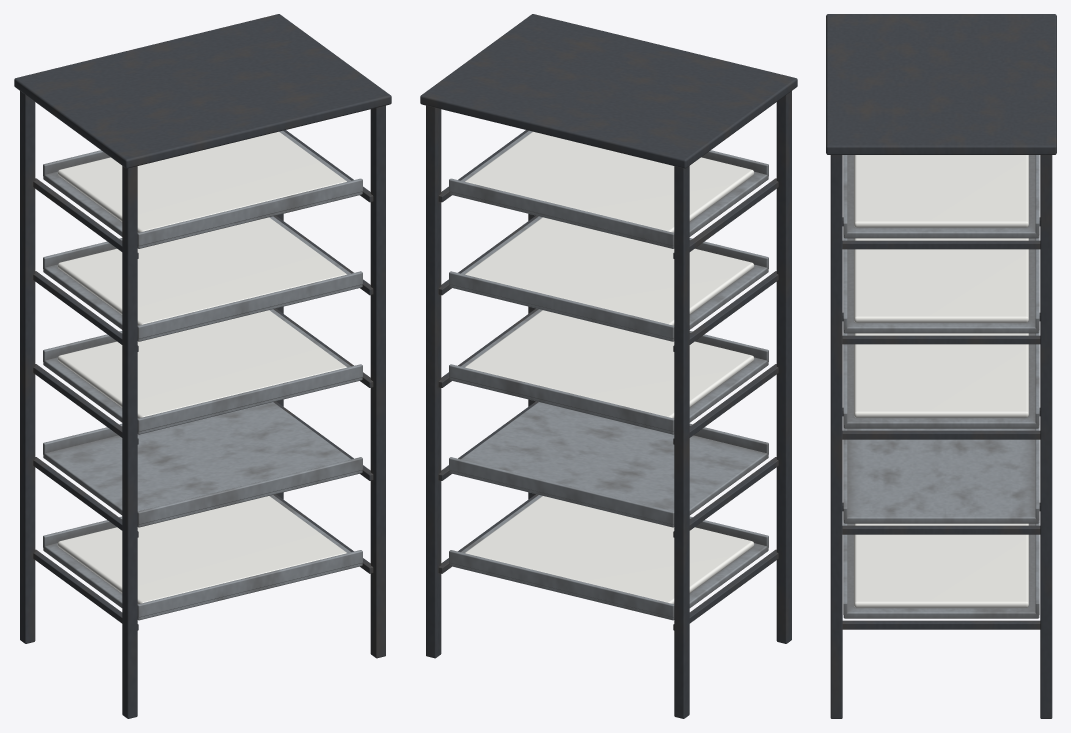
The model's file is lab_suszarnia.glb.
3 views of the same model, side by side, from view 1: azimuth 30°, elevation 25°; view 2: azimuth 150°, elevation 25°; view 3: azimuth 270°, elevation 25° (orthographic). The views are drawn at different scales.
Parts seen in each view (by area): view 1: Regal, Proszek; view 2: Regal, Proszek; view 3: Regal, Proszek.
Boxes of the visible parts, bbox=[...] form: Regal: bbox=[14, 14, 391, 718]; Proszek: bbox=[57, 131, 346, 603]; Regal: bbox=[420, 14, 797, 718]; Proszek: bbox=[465, 131, 754, 603]; Regal: bbox=[826, 14, 1056, 718]; Proszek: bbox=[854, 155, 1028, 607].
Bounding box in the file's own units: 0.9 × 1.81 × 0.66.
Materials: 3 (1 with a texture image).
